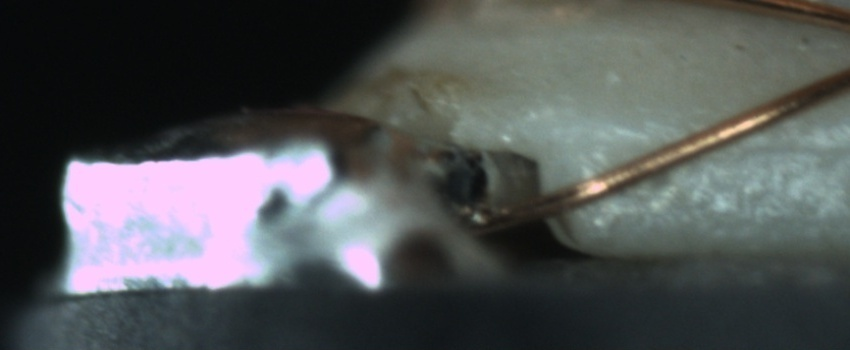DL: (683, 112, 847, 176)
